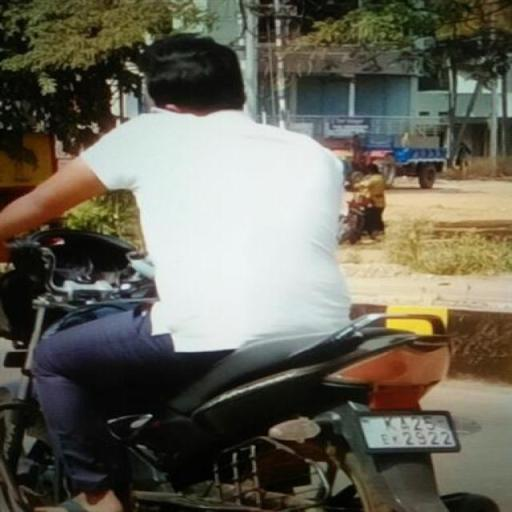using mobile: (140, 100, 188, 116)
